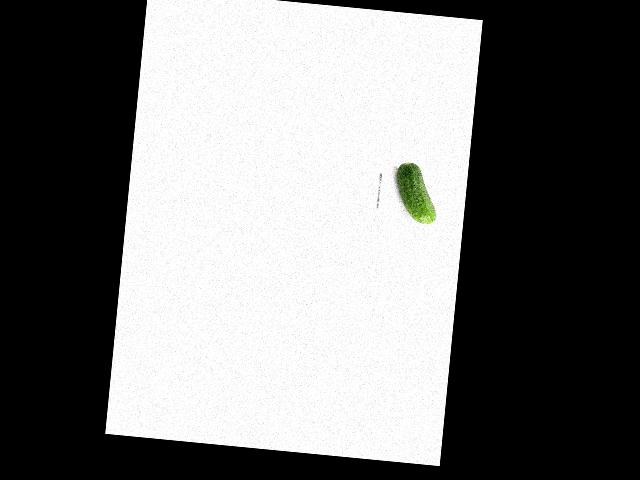cucumber: (392, 161, 440, 224)
